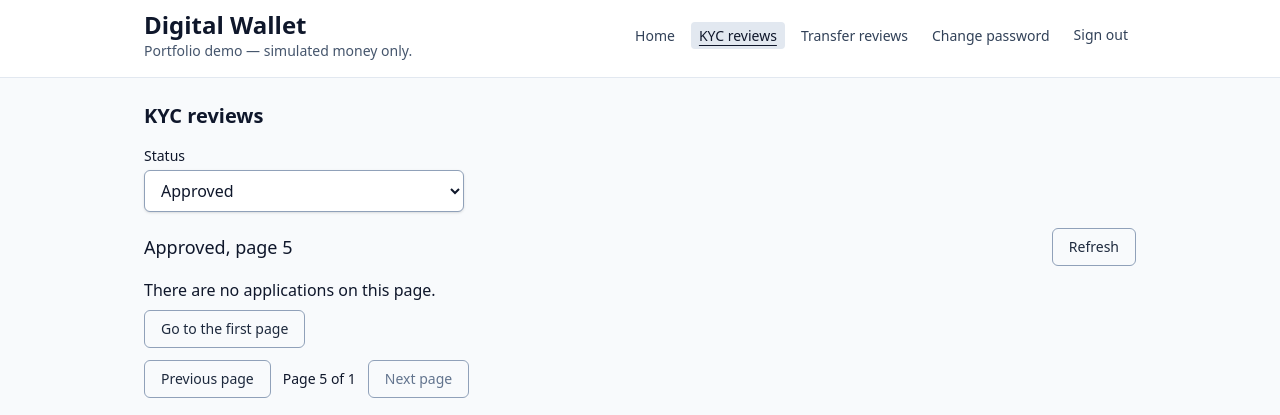
Test case: KYC review queue › a page past the end offers the first page
This screenshot has width=1280, height=415.
Expected: the text "There are no applications on this page." is shown, left=144, top=279, right=436, bottom=301
Click the button "Go to the first page".
click(225, 329)  # box left=144, top=310, right=305, bottom=348
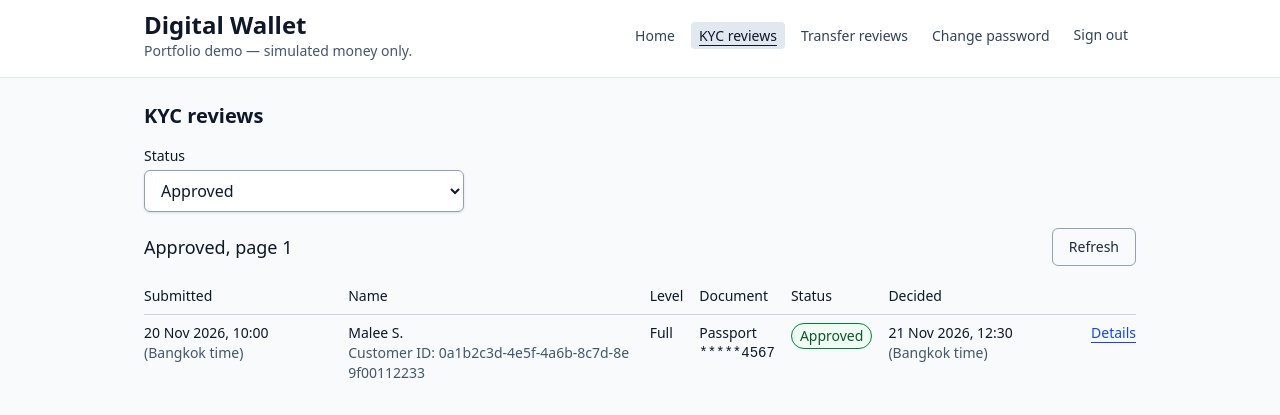
Now the text "Malee S." is shown, box left=348, top=323, right=403, bottom=342
